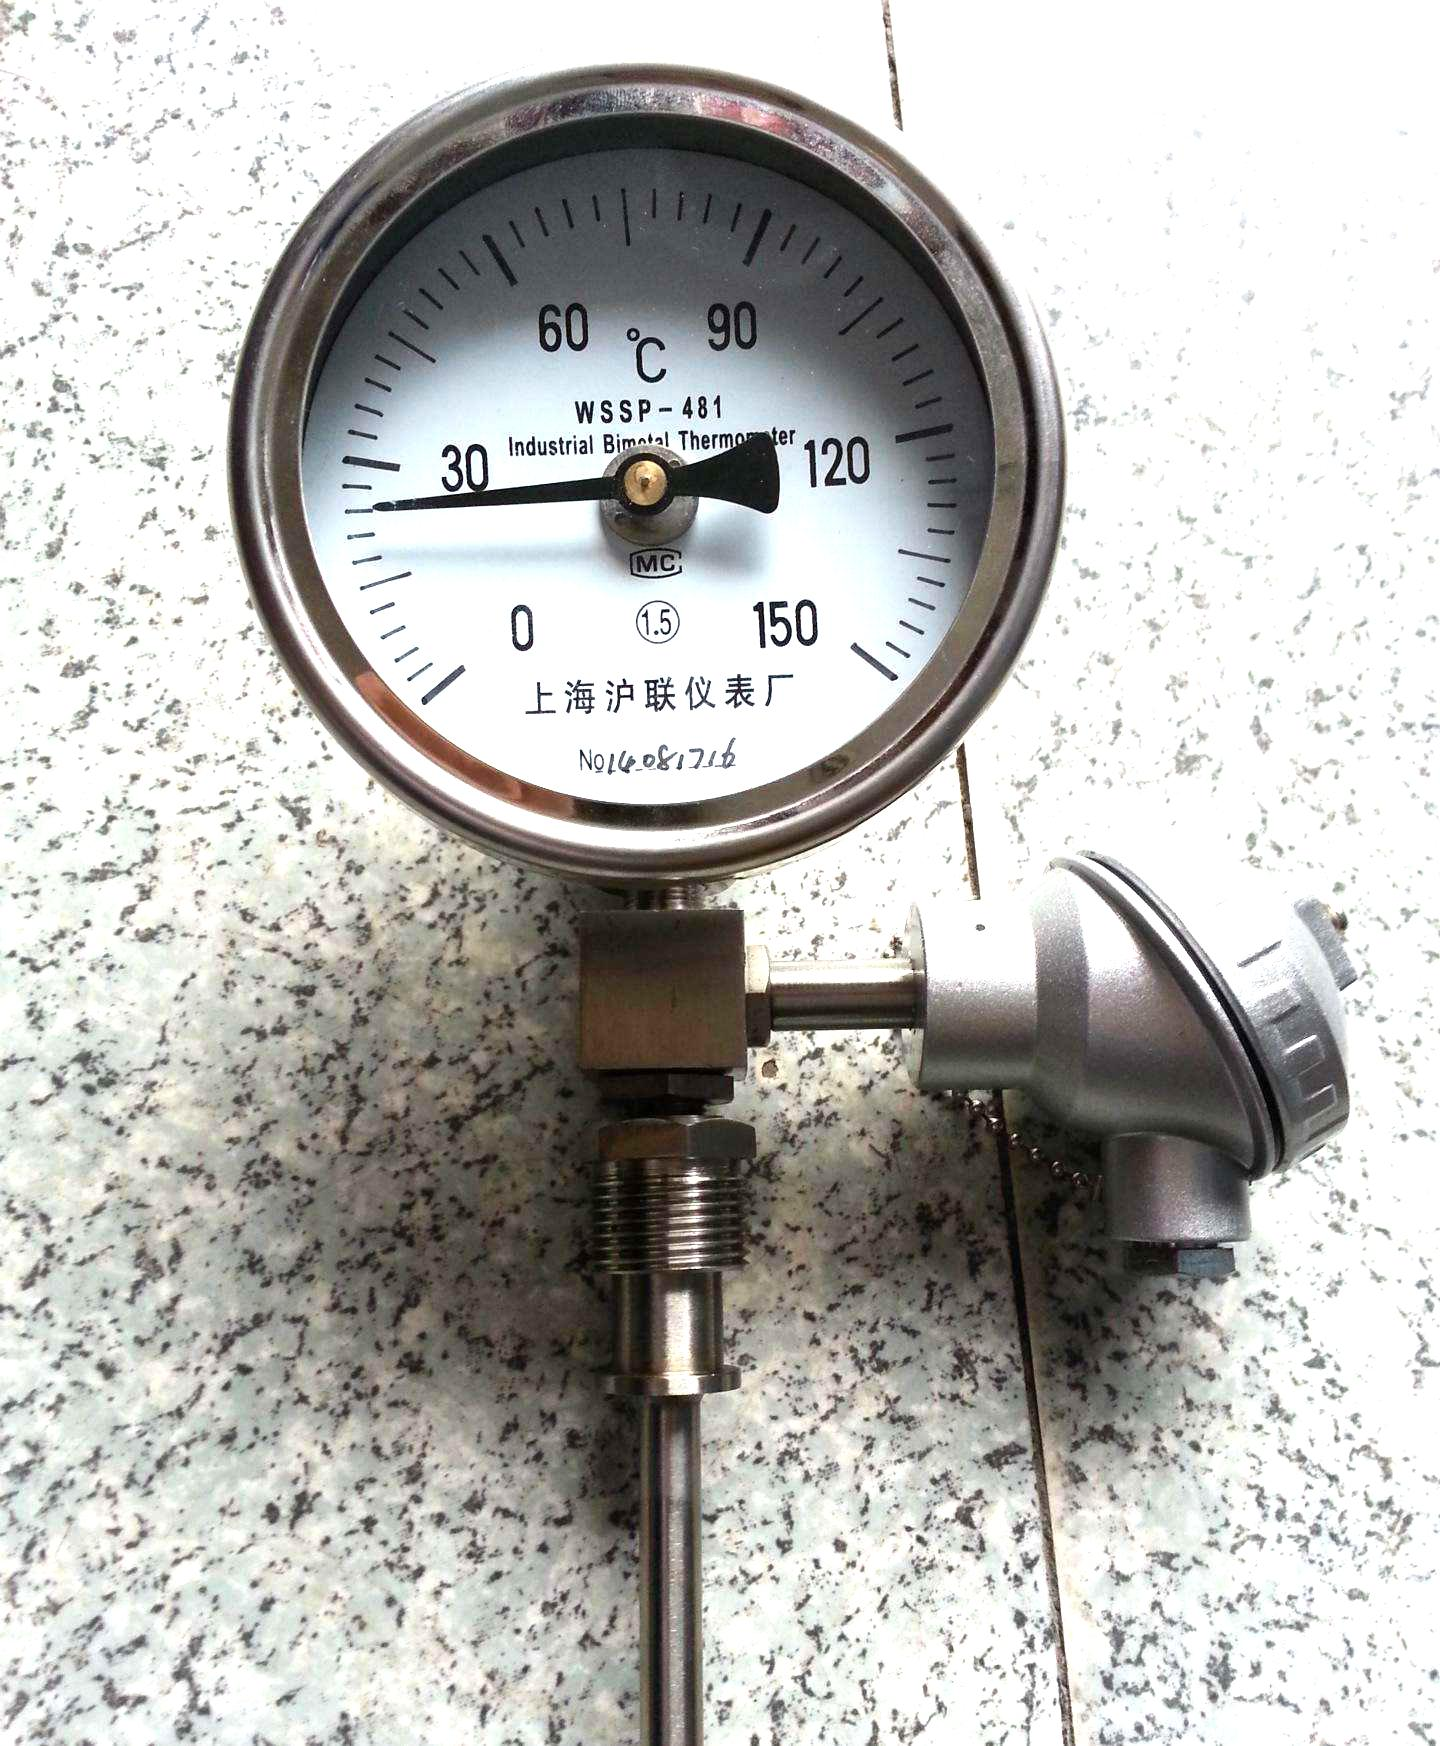pointer: (228, 74, 1059, 861)
